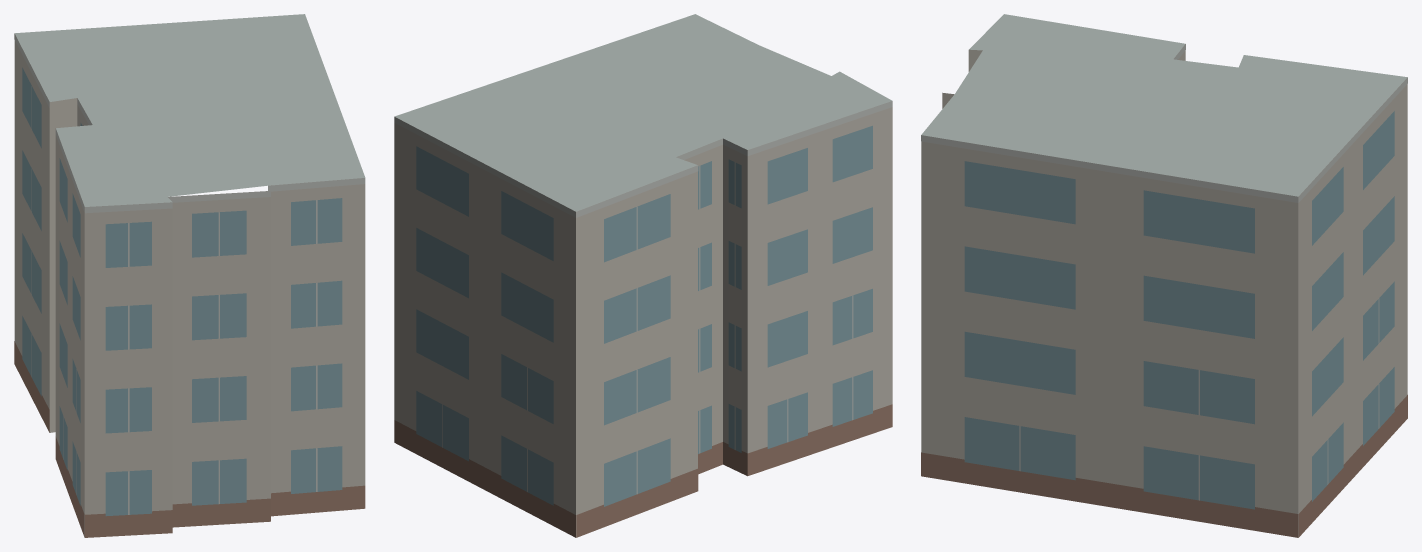
File: survey-upis-33013437.glb
The picture shows the model from 3 angles, left to right: view 1: azimuth 30°, elevation 25°; view 2: azimuth 150°, elevation 25°; view 3: azimuth 270°, elevation 25°; orthographic projection. The views are drawn at different scales.
Visible parts, largest first — view 1: survey-upis-33013437.tmp; view 2: survey-upis-33013437.tmp; view 3: survey-upis-33013437.tmp.
Part boxes in pixels (box(x1,y1,x2,y2)): survey-upis-33013437.tmp: box(14, 14, 365, 537); survey-upis-33013437.tmp: box(394, 14, 892, 537); survey-upis-33013437.tmp: box(921, 14, 1407, 537).
Bounding box in the file's own units: 14.94 × 13 × 16.82.
